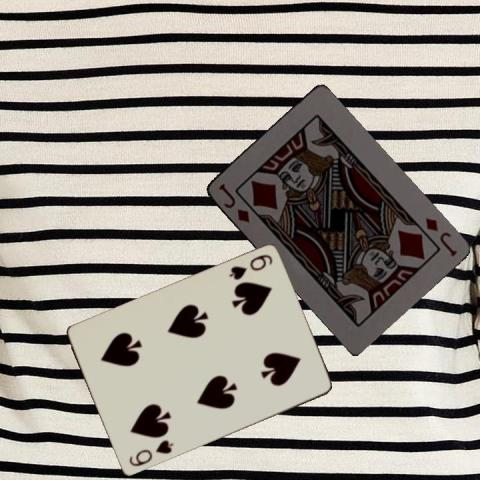6s: (125, 437, 175, 469), (225, 251, 274, 282)
Jd: (421, 215, 458, 258), (214, 180, 250, 224)
